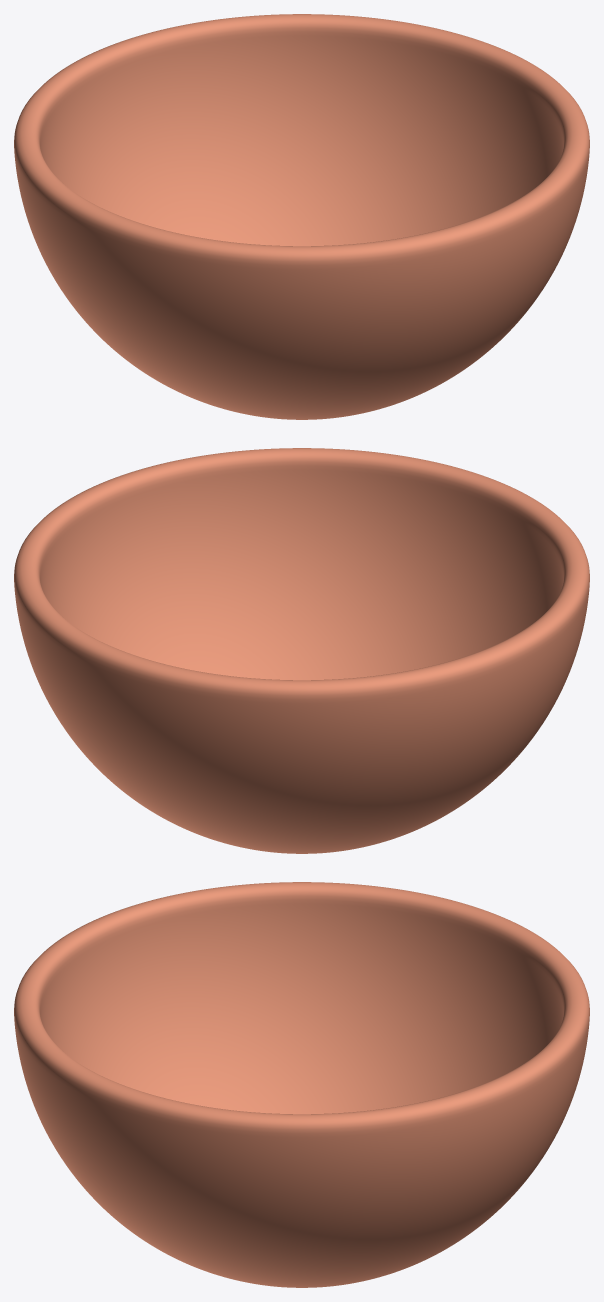
File: body.fbx
3 renders of one model, top to bottom at view 1: azimuth 30°, elevation 25°; view 2: azimuth 150°, elevation 25°; view 3: azimuth 270°, elevation 25°, orthographic.
Parts seen in each view (by area): view 1: Body; view 2: Body; view 3: Body.
Boxes of the visible parts, x1,y1,x2,y2 form: Body: (14,14,589,419); Body: (14,448,589,853); Body: (14,882,589,1287).
Size of the model in its own units: 219 by 110 by 219.
